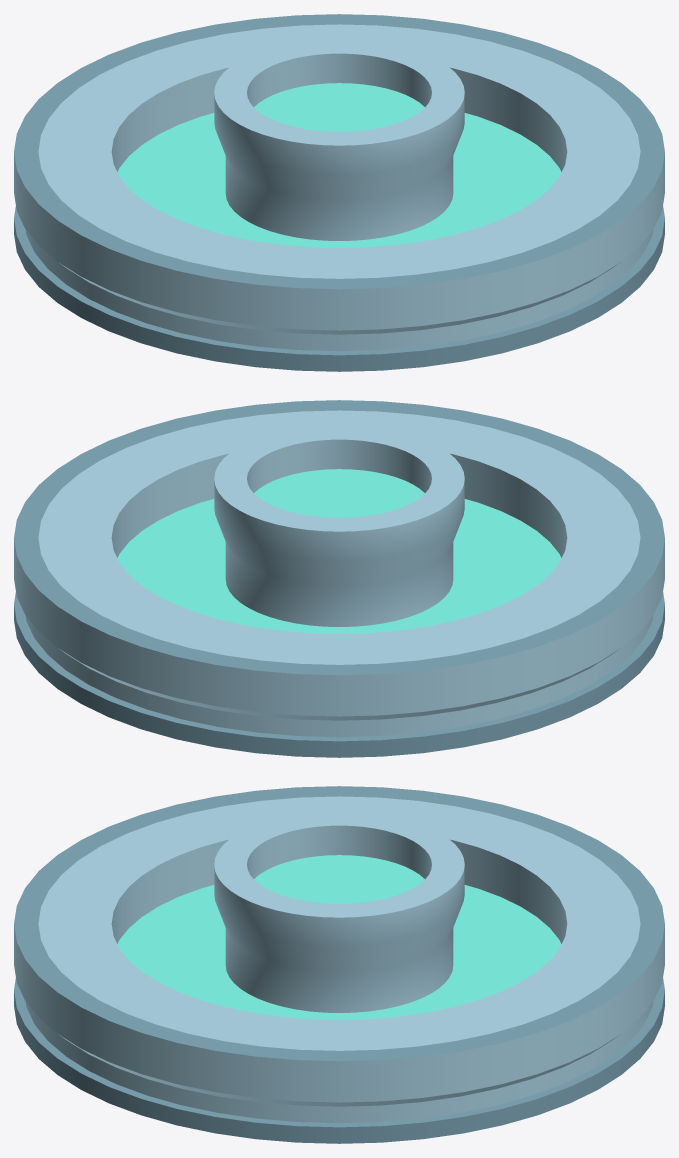
The model's file is fountainRoundDetail.obj.
3 renders of one model, top to bottom at view 1: azimuth 30°, elevation 25°; view 2: azimuth 150°, elevation 25°; view 3: azimuth 270°, elevation 25°, orthographic.
Visible parts, largest first — view 1: fountainRoundDetail; view 2: fountainRoundDetail; view 3: fountainRoundDetail.
Part boxes in pixels (box(x1,y1,x2,y2)): fountainRoundDetail: box(14, 14, 664, 371); fountainRoundDetail: box(14, 400, 664, 757); fountainRoundDetail: box(14, 786, 664, 1143).
Size of the model in its own units: 2 by 0.48 by 2.
